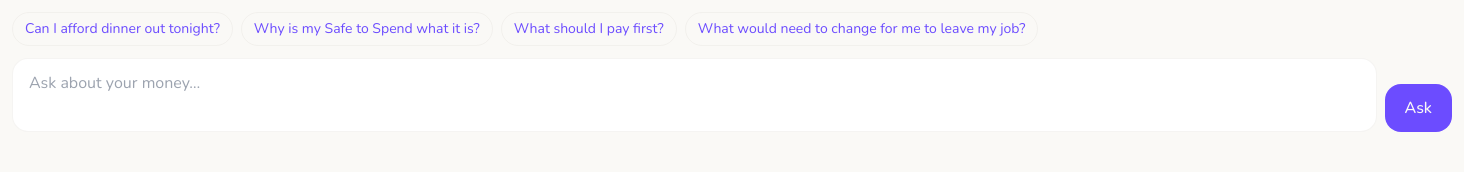
Scenario: AskBrainForm › fills the textarea when a suggestion is clicked
The width and height of the screenshot is (1464, 172).
Check: the text box with placeholder "Ask about your money…" is empty, box [12, 58, 1376, 132]
What coordinates should you click on to do the following:
click the button "What should I pay first?"
I would click on:
 (589, 29)
Its box is [501, 12, 677, 46].
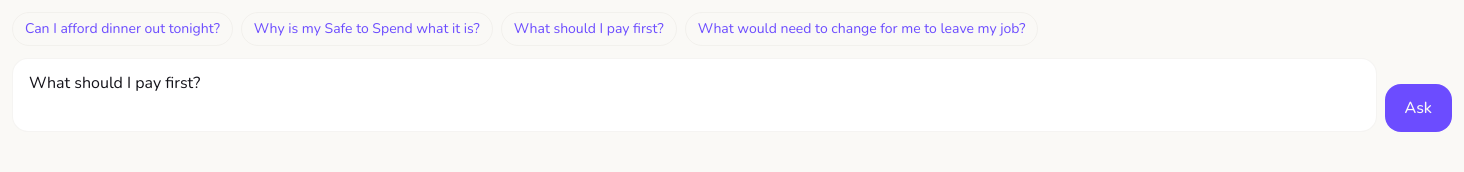
Check: the text box with placeholder "Ask about your money…" holds "What should I pay first?", box [12, 58, 1376, 132]
